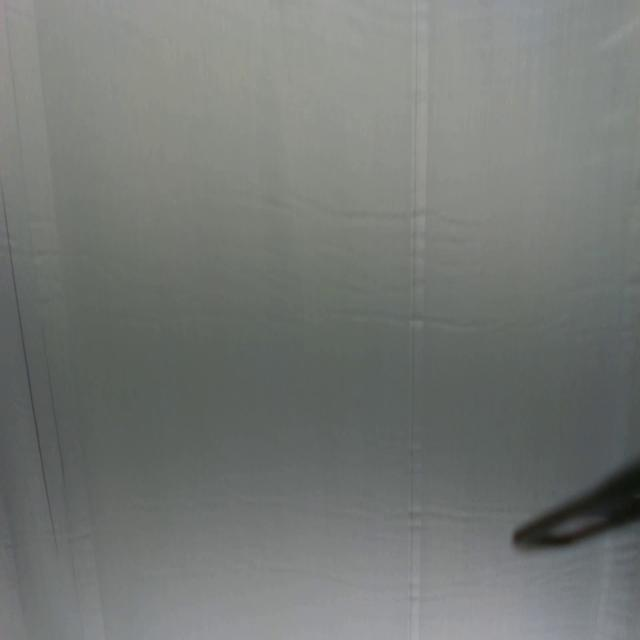crease: (0, 0, 107, 639), (406, 0, 428, 639)
